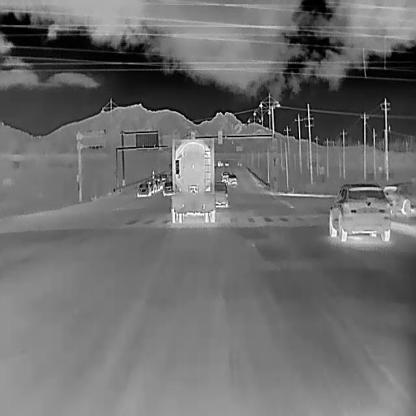car: (170, 138, 215, 223), (327, 182, 391, 241), (383, 182, 415, 216), (213, 180, 228, 208), (136, 184, 152, 198), (152, 173, 163, 191), (162, 180, 173, 196), (145, 178, 156, 192), (219, 171, 229, 182), (227, 174, 236, 185), (160, 171, 169, 181), (216, 159, 223, 167), (224, 159, 229, 166)
